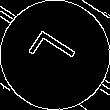L_SE: (26, 29, 84, 81)
